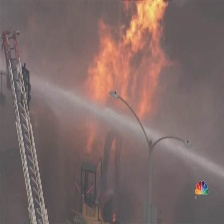fire: (91, 2, 160, 131)
